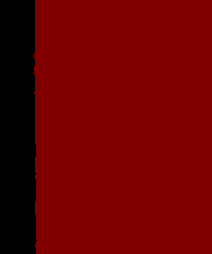Sky: (35, 1, 211, 253)
